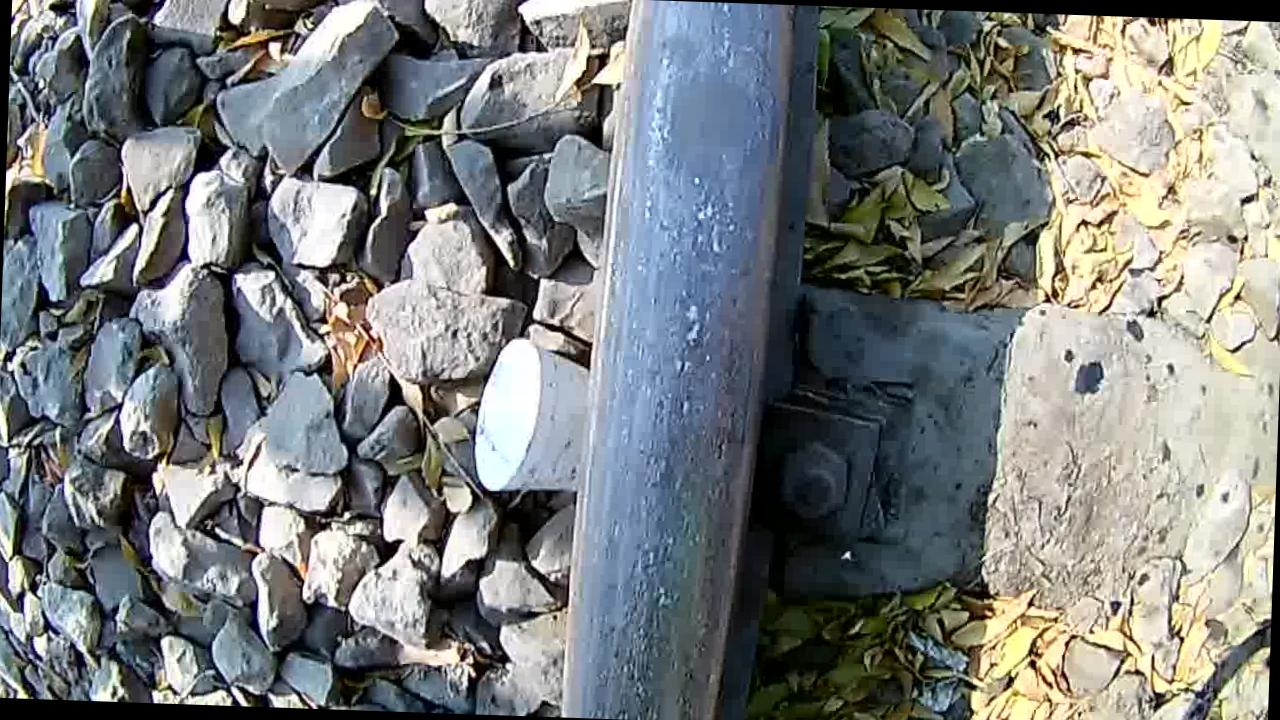bolt_missing: (638, 6, 818, 238)
